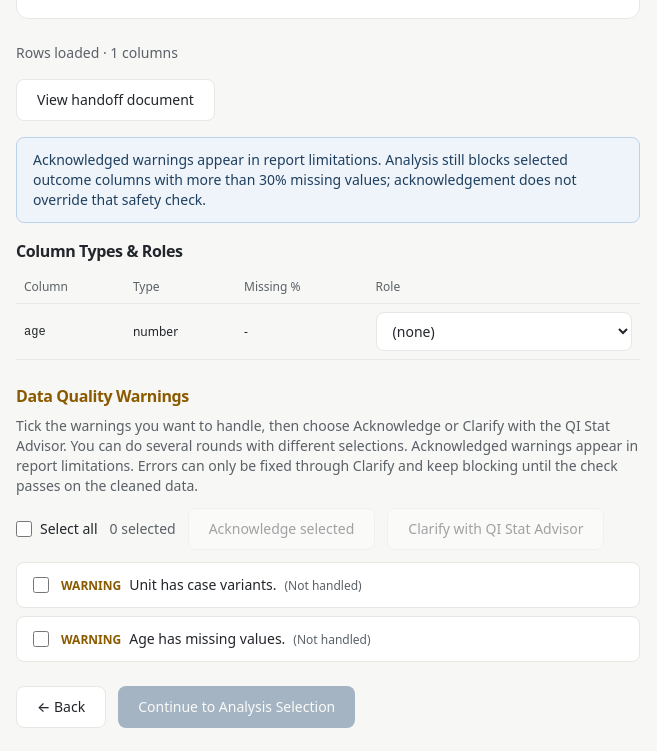
DataReview › decline drops the proposal without applying
The image size is (657, 751).
(page scrolled)
Click the checkbox labelled "Unit has case variants".
click(41, 585)  # box top-left (33, 577), bottom-right (49, 593)
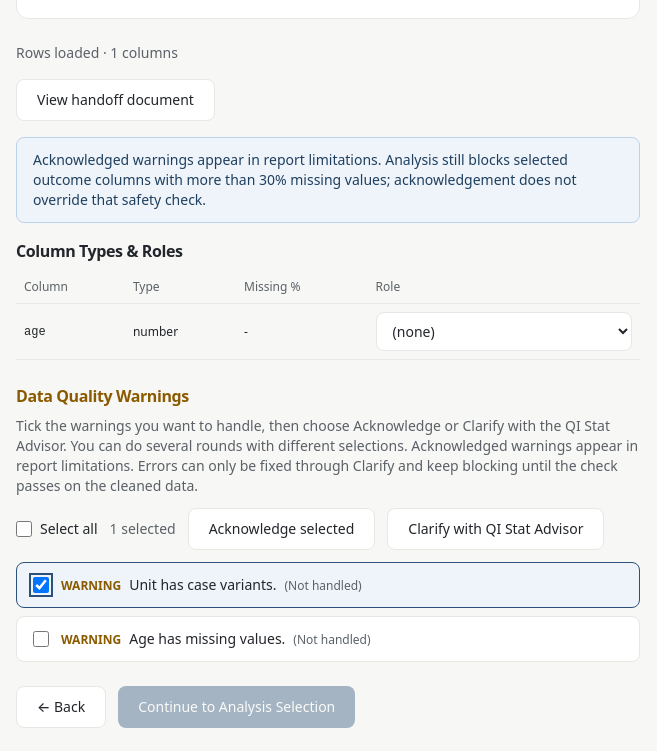
Click the button "Clarify with QI Stat Advisor".
click(496, 529)  # box top-left (387, 508), bottom-right (604, 550)
(page scrolled)
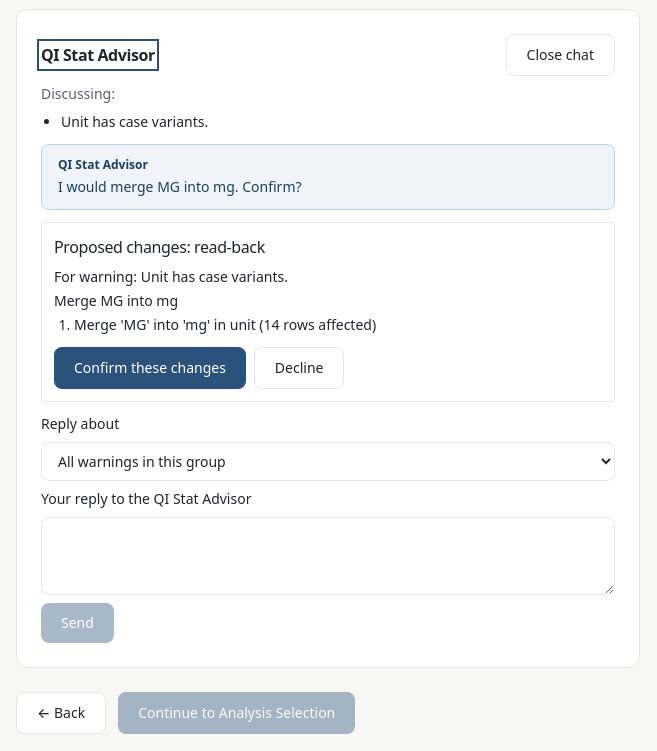
Click the button "Decline".
click(299, 368)  # box top-left (254, 347), bottom-right (344, 389)
(page scrolled)
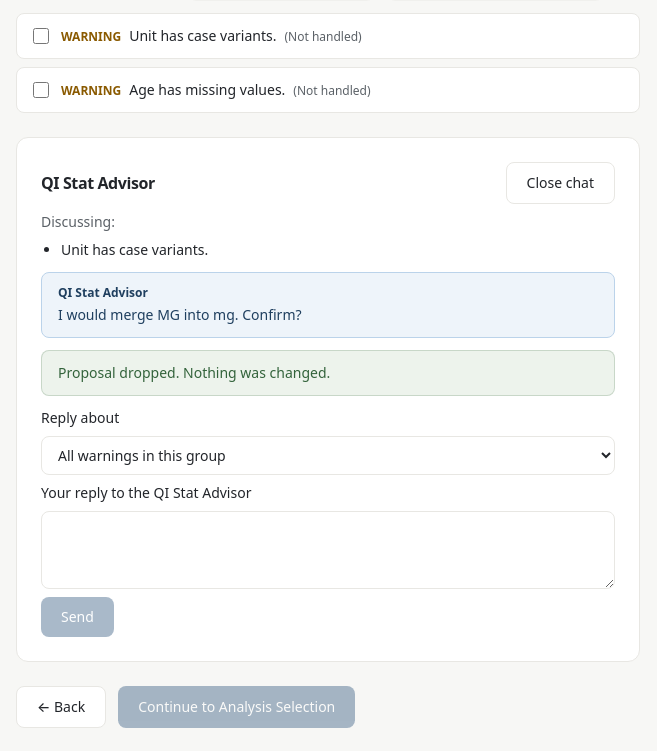
expect the button "Confirm these changes" is gone: met
expect the text "Proposal dropped. Nothing was changed." is shown: met, box top-left (41, 350), bottom-right (615, 396)
